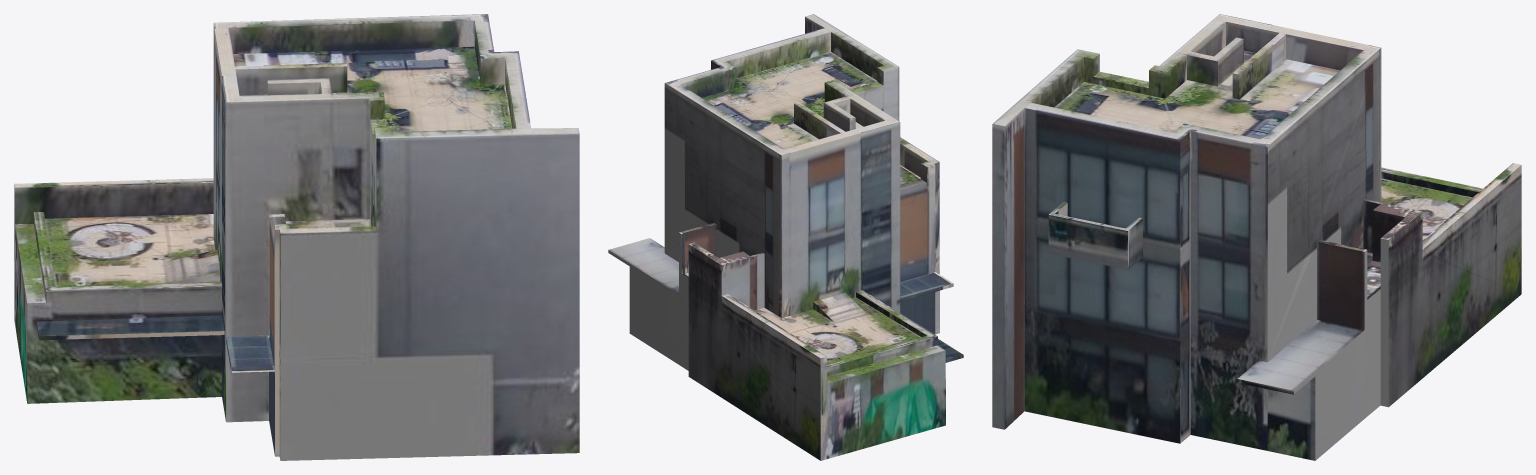
3 views of the same model, side by side, from view 1: azimuth 30°, elevation 25°; view 2: azimuth 150°, elevation 25°; view 3: azimuth 270°, elevation 25° (orthographic). The views are drawn at different scales.
Visible parts, largest first — view 1: B287834030601063A0; view 2: B287834030601063A0; view 3: B287834030601063A0.
Part boxes in pixels (x1=…): B287834030601063A0: x1=14, y1=14, x2=579, y2=460; B287834030601063A0: x1=608, y1=14, x2=963, y2=460; B287834030601063A0: x1=992, y1=14, x2=1521, y2=460.
Bounding box in the file's own units: 19.36 × 12.26 × 19.28.
1 material, 1 textured.
